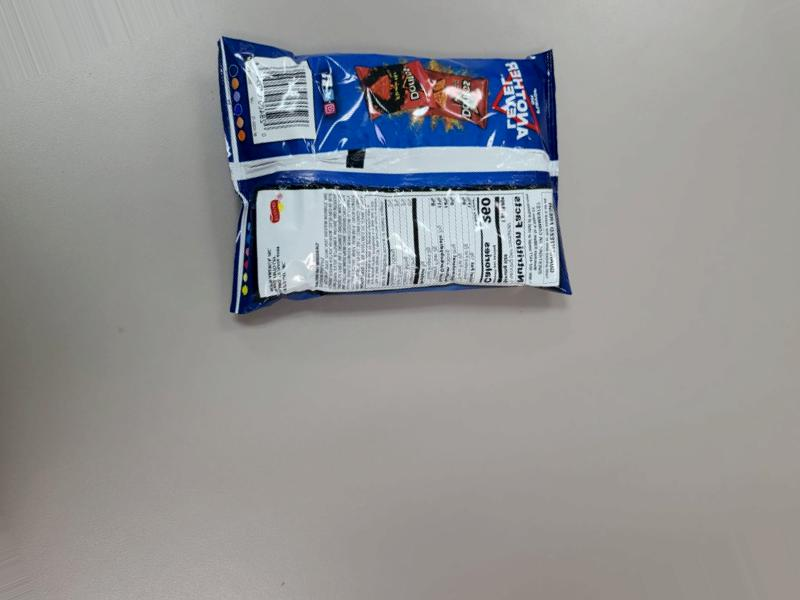doritos: (230, 38, 599, 337)
